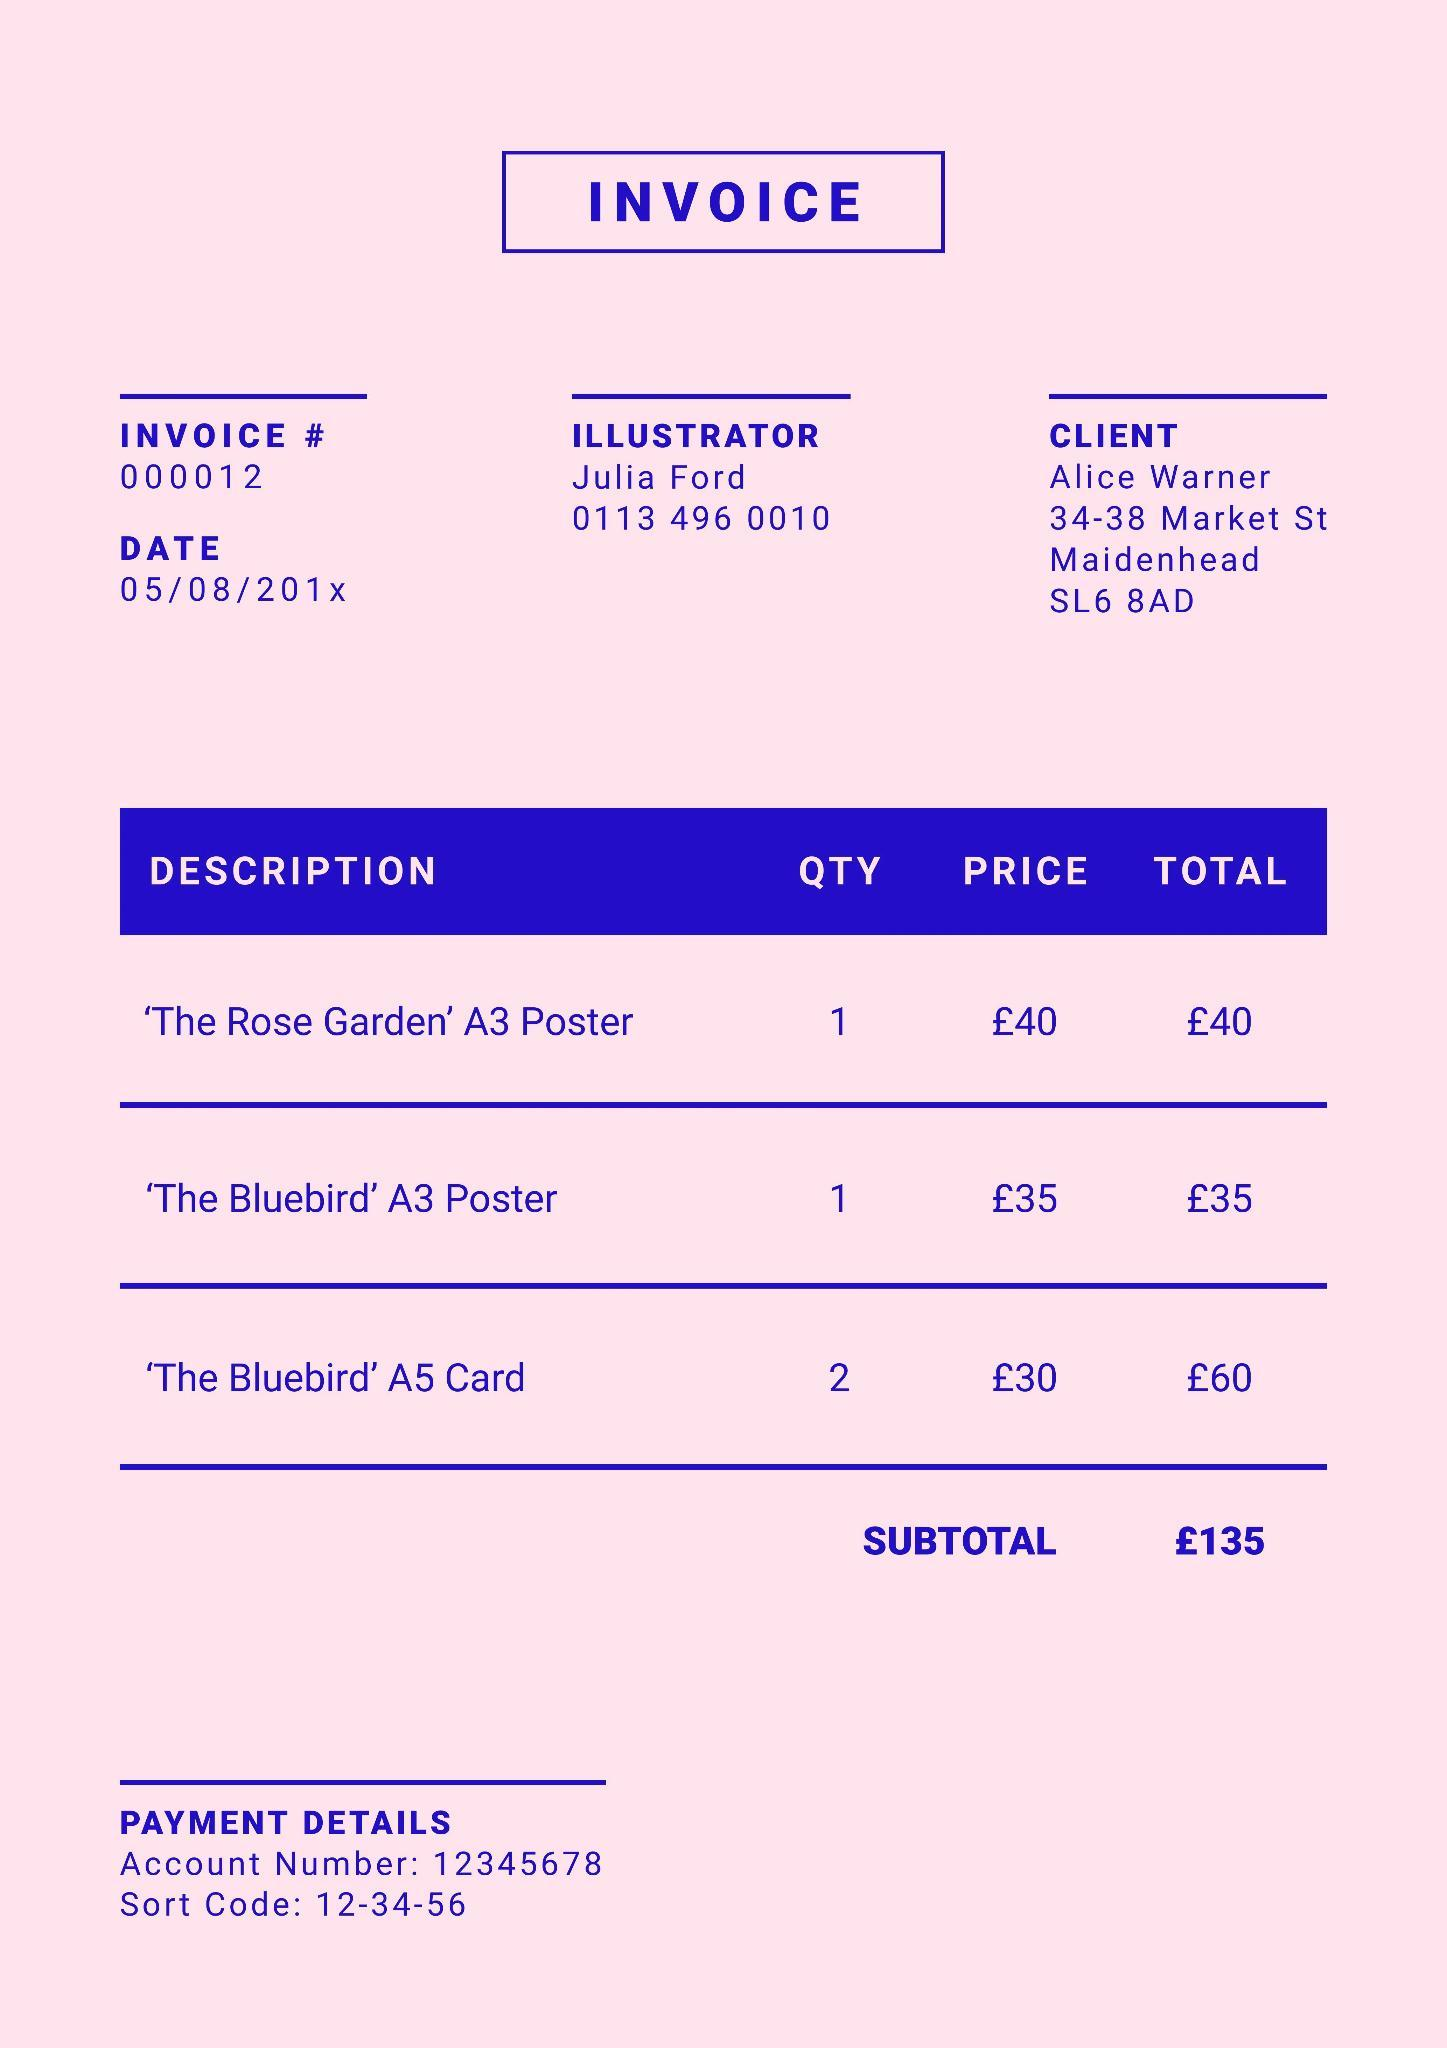ROI: (117, 818, 1309, 1458), (99, 1770, 627, 1956), (1035, 373, 1365, 653), (517, 387, 878, 564), (97, 408, 374, 623), (811, 1487, 1309, 1588), (503, 149, 936, 244)
